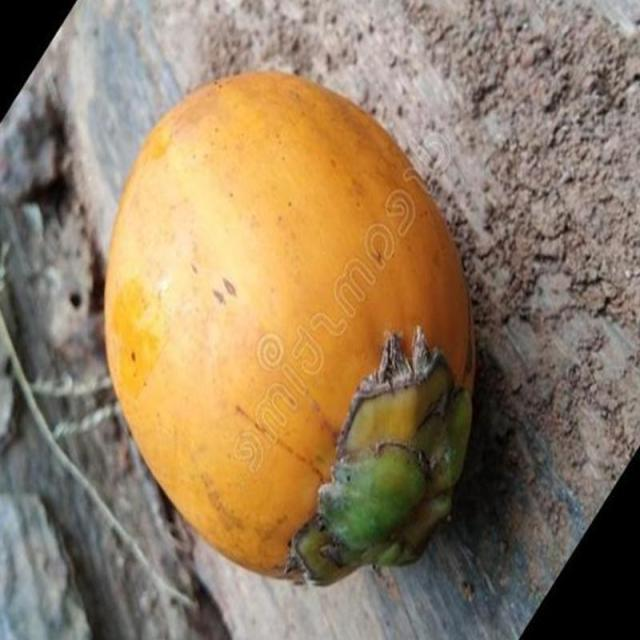good: (101, 70, 479, 590)
